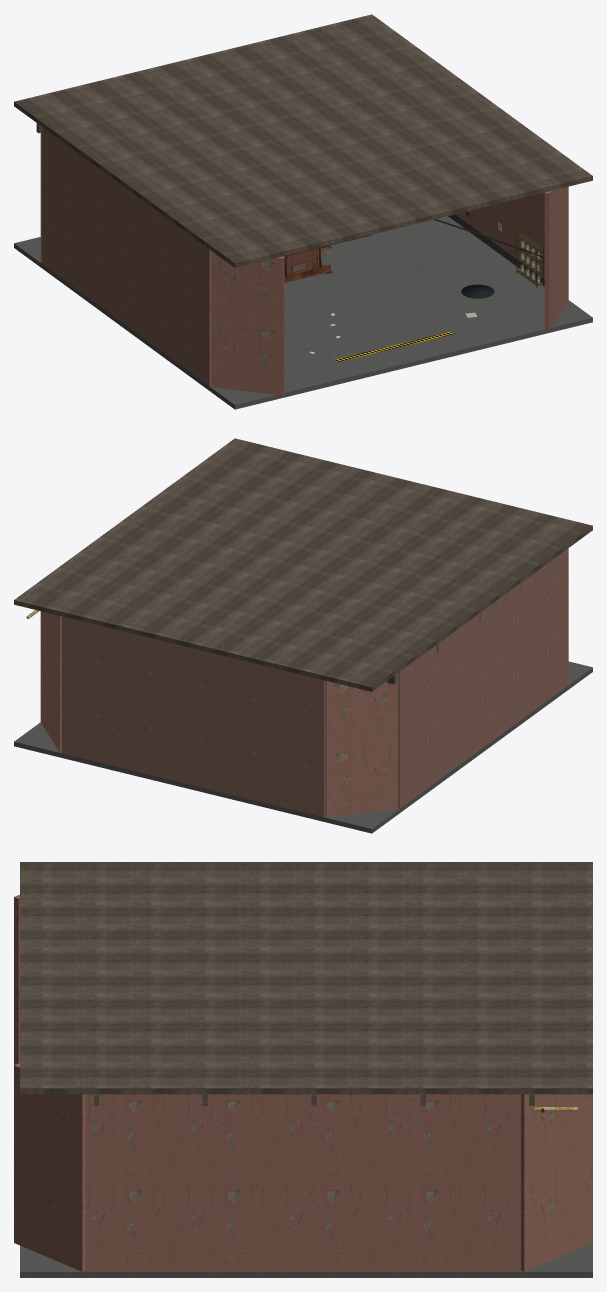
File: zone_f_core.glb
3 renders of one model, top to bottom at view 1: azimuth 30°, elevation 25°; view 2: azimuth 150°, elevation 25°; view 3: azimuth 270°, elevation 25°, orthographic. The views are drawn at different scales.
Parts seen in each view (by area): view 1: F_ceiling, F_walls, F_floor, F_joy_machine, F_shelves; view 2: F_ceiling, F_walls, F_floor; view 3: F_ceiling, F_walls, F_floor.
Part boxes in pixels (bbox=[...]): F_ceiling: bbox=[14, 14, 592, 267]; F_walls: bbox=[40, 126, 568, 395]; F_floor: bbox=[14, 216, 592, 409]; F_joy_machine: bbox=[284, 245, 333, 282]; F_shelves: bbox=[516, 232, 543, 287]; F_ceiling: bbox=[14, 438, 592, 691]; F_walls: bbox=[40, 548, 568, 817]; F_floor: bbox=[14, 661, 592, 833]; F_ceiling: bbox=[20, 862, 592, 1094]; F_walls: bbox=[14, 894, 592, 1271]; F_floor: bbox=[20, 1242, 592, 1277].
Bounding box in the file's own units: 24.6 × 9.6 × 26.58.
Materials: 23 (15 with a texture image).
